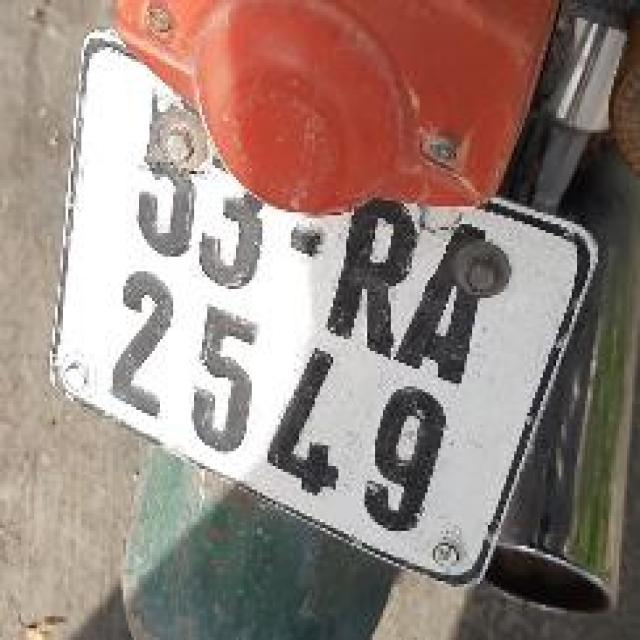2: (88, 257, 183, 444)
3: (187, 86, 300, 314), (130, 77, 228, 266)
4: (245, 331, 386, 522)
5: (166, 287, 284, 475)
9: (348, 369, 474, 560)
A: (379, 191, 538, 412)
R: (306, 154, 454, 377)
